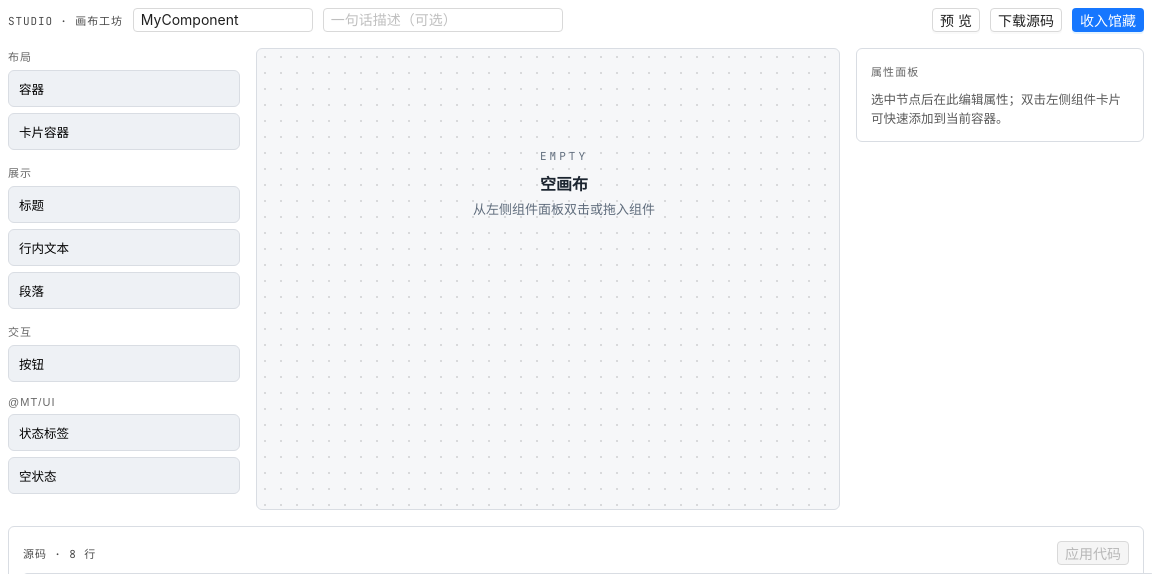
Test case: StudioPage 画布工坊 › 双击 palette 卡片添加到根容器，画布与代码面板同步
Double-click the button with test id "palette-card" at (124, 132), box [8, 113, 240, 150]
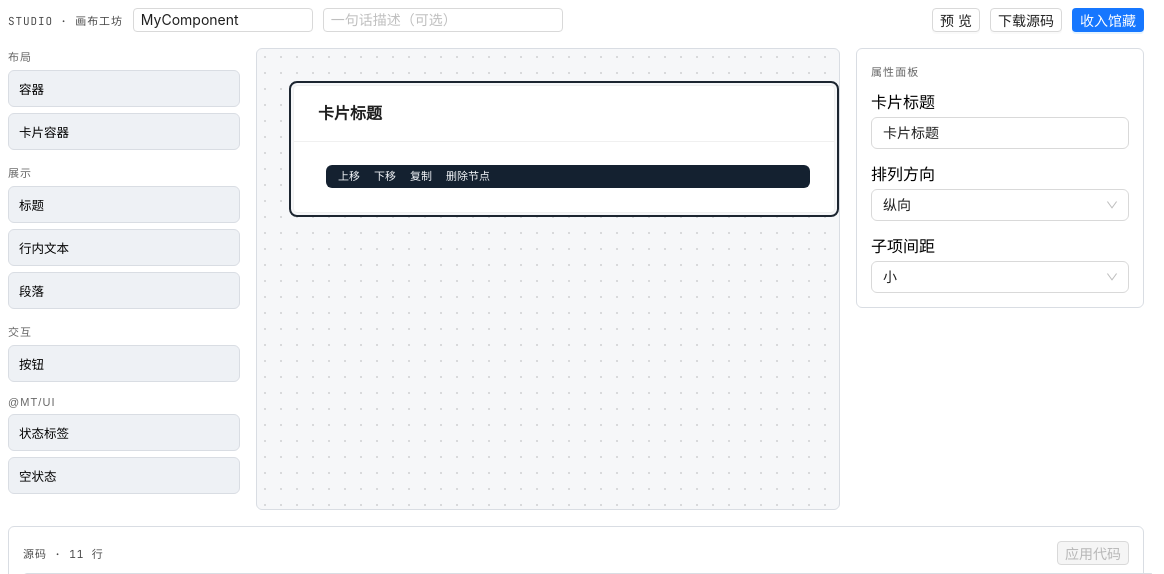
Now the text "卡片标题" is shown, box [318, 103, 382, 123]
